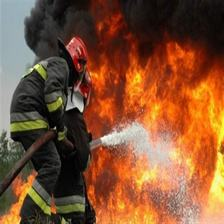fire: (93, 3, 224, 223), (26, 1, 176, 36), (1, 167, 38, 223)
